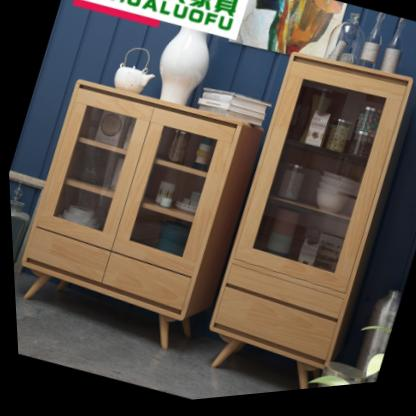Cupboard: (204, 60, 413, 395), (15, 82, 261, 354)
